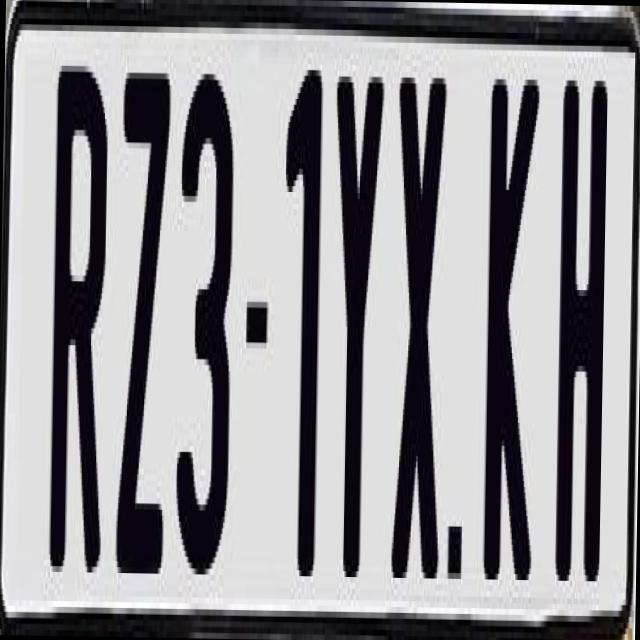1: (276, 63, 324, 588)
3: (170, 68, 233, 598)
H: (553, 62, 613, 575)
K: (482, 68, 544, 592)
R: (48, 60, 114, 572)
X: (386, 77, 445, 613)
Y: (327, 75, 390, 582)
Z: (114, 72, 170, 608)
